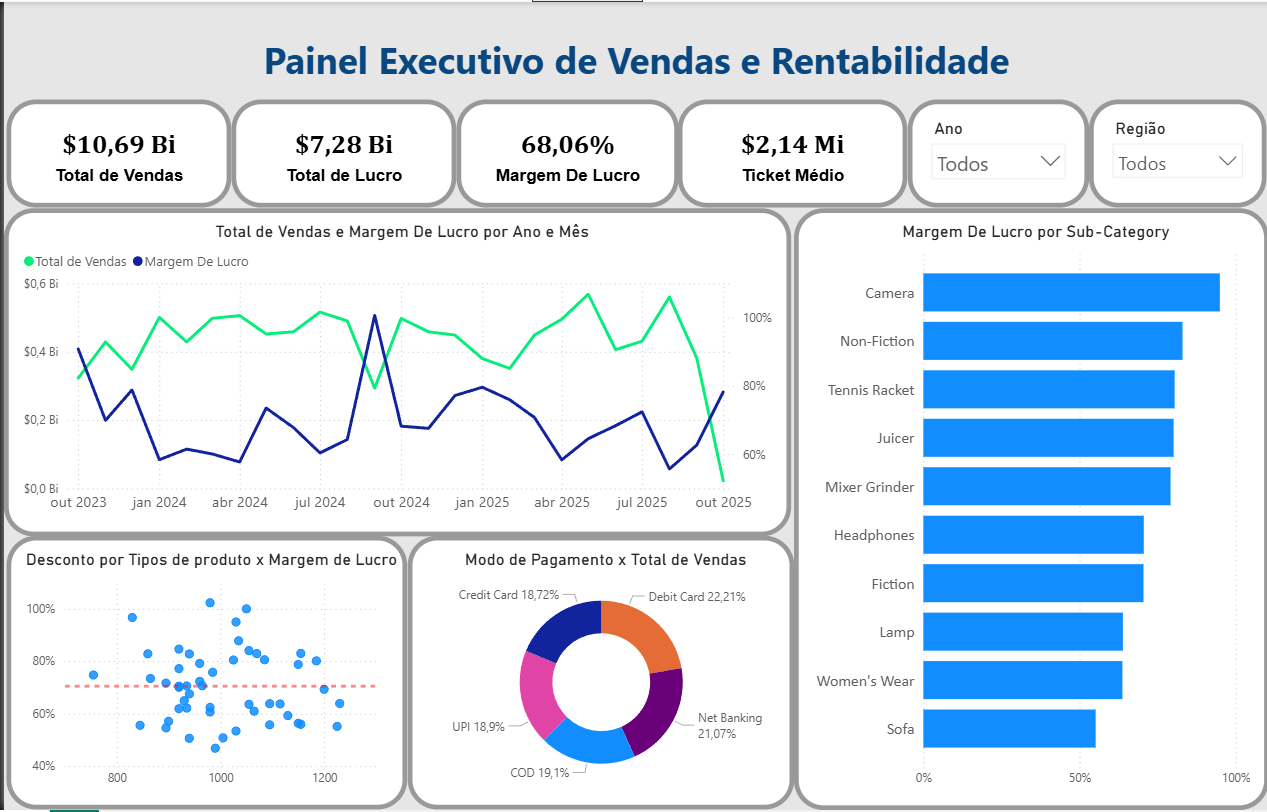

The page's visual inventory and layout, read from the dashboard file:
{"tool":"powerbi","page":{"name":"Dashboard","canvas":[1280,820],"ordinal":0},"visuals":[{"type":"card","fields":{"Values":["_Medidas.Total_de_Vendas"]},"box":[2.3,98.9,228,109.8],"z":1000},{"type":"card","fields":{"Values":["_Medidas.Total_de_Lucro"]},"box":[230.3,98.9,228,109.8],"z":2000},{"type":"card","fields":{"Values":["_Medidas.Ticket_Medio"]},"box":[683.9,98.9,232.8,109.8],"z":3000},{"type":"card","fields":{"Values":["_Medidas.Margem_De_Lucro"]},"box":[458.3,98.9,225.6,109.8],"z":4000},{"type":"lineChart","fields":{"Y":["_Medidas.Total_de_Vendas"],"Y2":["_Medidas.Margem_De_Lucro"],"Category":["Calendario.Date.Variation.Hierarquia de datas.Ano","Calendario.Date.Variation.Hierarquia de datas.Mês"]},"box":[0,208.8,798.3,332.5],"z":5000},{"type":"scatterChart","title":"Desconto por Tipos de produto x Margem de Lucro","fields":{"X":["Sum(Ecommerce_Sales_Data_2024_2025.Discount)"],"Y":["_Medidas.Margem_De_Lucro"],"Category":["Ecommerce_Sales_Data_2024_2025.Sub-Category"]},"box":[2.3,541.6,406.6,277.5],"z":6000},{"type":"clusteredBarChart","title":"Margem De Lucro por Sub-Category","fields":{"Category":["Ecommerce_Sales_Data_2024_2025.Sub-Category"],"Y":["_Medidas.Margem_De_Lucro"]},"box":[800.8,208.9,481.8,610.2],"z":7000},{"type":"donutChart","title":"Modo de Pagamento x Total de Vendas","fields":{"Category":["Ecommerce_Sales_Data_2024_2025.Payment Mode"],"Y":["_Medidas.Total_de_Vendas"]},"box":[408.9,541.6,392.1,277.5],"z":8000},{"type":"slicer","fields":{"Values":["Ecommerce_Sales_Data_2024_2025.Region"]},"box":[1100.6,98.9,180,109.9],"z":9000},{"type":"slicer","fields":{"Values":["Calendario.Date.Variation.Hierarquia de datas.Ano"]},"box":[916.5,98.9,184.1,109.9],"z":10000},{"type":"textbox","box":[2.7,27.5,1277.8,57.7],"z":10001}]}

Visuals, with their boxes in screenshot pixels (x1, y1, x2, y2), scaled from the page's 1280x820 canvas onto the 1267x812 screenshot:
card - _Medidas.Total_de_Vendas: {"left": 2, "top": 98, "right": 228, "bottom": 207}
card - _Medidas.Total_de_Lucro: {"left": 228, "top": 98, "right": 454, "bottom": 207}
card - _Medidas.Ticket_Medio: {"left": 677, "top": 98, "right": 907, "bottom": 207}
card - _Medidas.Margem_De_Lucro: {"left": 454, "top": 98, "right": 677, "bottom": 207}
lineChart - _Medidas.Total_de_Vendas x _Medidas.Margem_De_Lucro: {"left": 0, "top": 207, "right": 790, "bottom": 536}
"Desconto por Tipos de produto x Margem de Lucro" scatterChart: {"left": 2, "top": 536, "right": 405, "bottom": 811}
"Margem De Lucro por Sub-Category" clusteredBarChart: {"left": 793, "top": 207, "right": 1266, "bottom": 811}
"Modo de Pagamento x Total de Vendas" donutChart: {"left": 405, "top": 536, "right": 793, "bottom": 811}
slicer - Ecommerce_Sales_Data_2024_2025.Region: {"left": 1089, "top": 98, "right": 1266, "bottom": 207}
slicer - Calendario.Date.Variation.Hierarquia de datas.Ano: {"left": 907, "top": 98, "right": 1089, "bottom": 207}
textbox: {"left": 3, "top": 27, "right": 1266, "bottom": 84}
